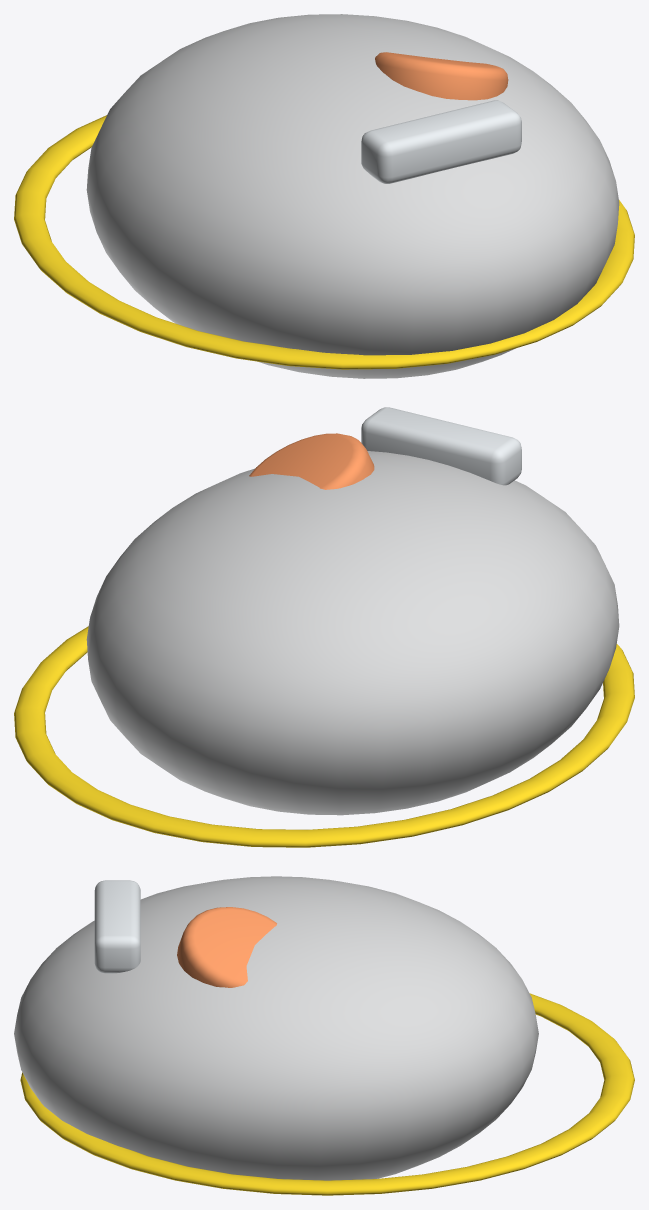
File: SM_DustMask.fbx
3 views of the same model, one above another, from view 1: azimuth 30°, elevation 25°; view 2: azimuth 150°, elevation 25°; view 3: azimuth 270°, elevation 25° (orthographic). The views are drawn at different scales.
Parts seen in each view (by area): view 1: SM_DustMask; view 2: SM_DustMask; view 3: SM_DustMask.
Part boxes in pixels (<box>): SM_DustMask: <box>14,14,634,378</box>; SM_DustMask: <box>14,407,634,847</box>; SM_DustMask: <box>14,876,634,1195</box>.
Size of the model in its own units: 32.55 by 17.48 by 37.59.
